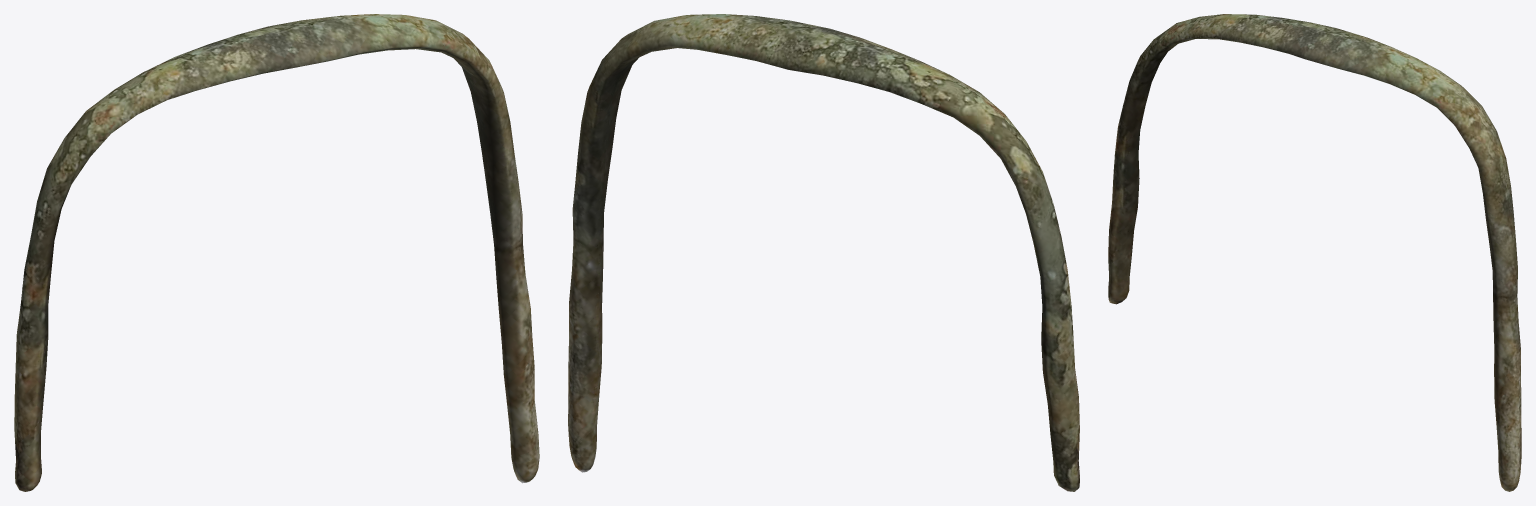
File: antiquity2_27.fbx
3 renders of one model, left to right at view 1: azimuth 30°, elevation 25°; view 2: azimuth 150°, elevation 25°; view 3: azimuth 330°, elevation 25°, orthographic. The views are drawn at different scales.
Visible parts, largest first — view 1: 0549; view 2: 0549; view 3: 0549.
Part boxes in pixels (x1=…): 0549: x1=14, y1=14, x2=539, y2=491; 0549: x1=568, y1=14, x2=1079, y2=491; 0549: x1=1108, y1=14, x2=1521, y2=491.
Bounding box in the file's own units: 38.71 × 36.3 × 5.86.
Materials: 1 (1 with a texture image).
